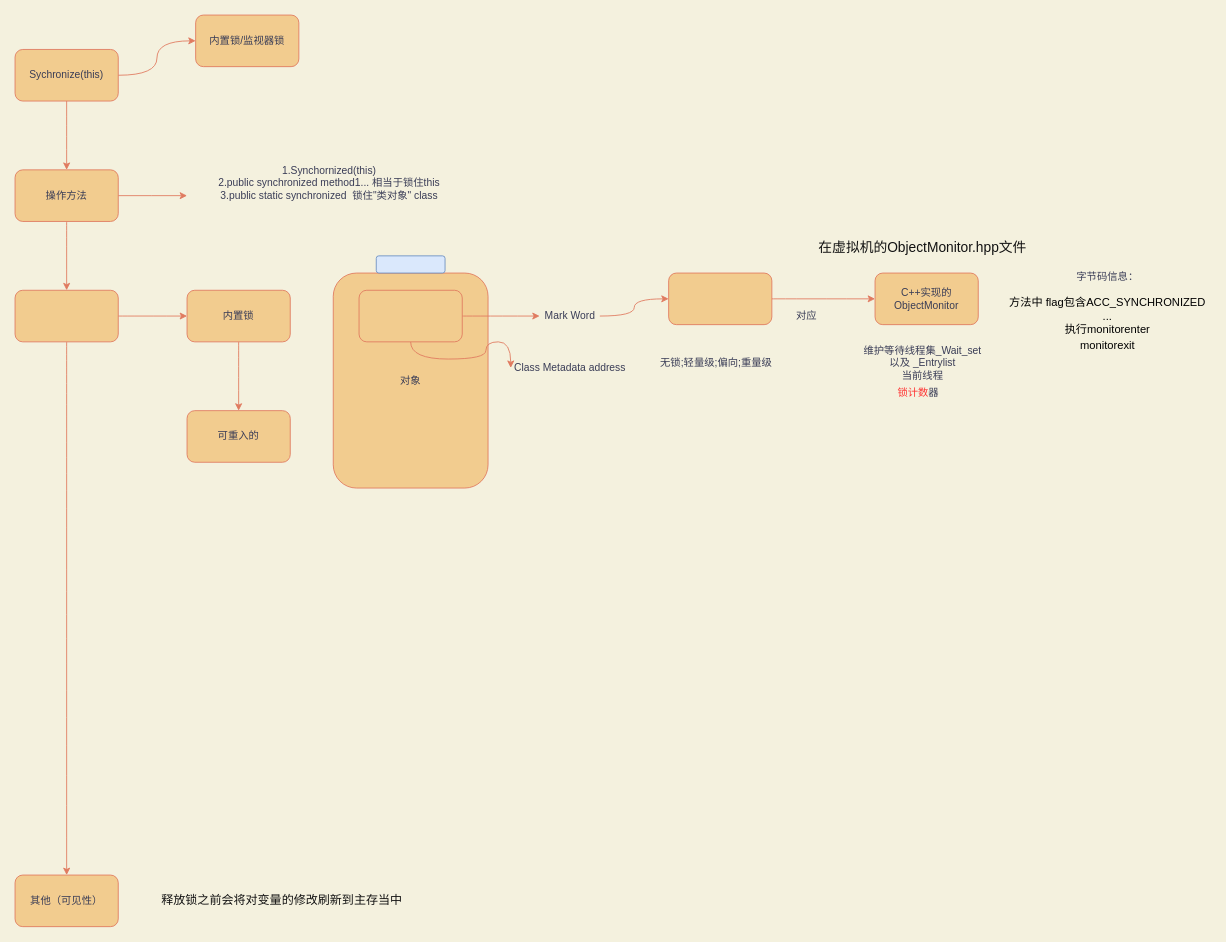
Some shapes in this 1226 by 942 pixel diagram are drawn without their labels. Each missing label, with the centre of its shape:
"JVM虚拟机:" goes at (410,264).
"实现原理" goes at (66,315).
"对象头" goes at (410,315).
"锁信息（四种）" goes at (720,298).
